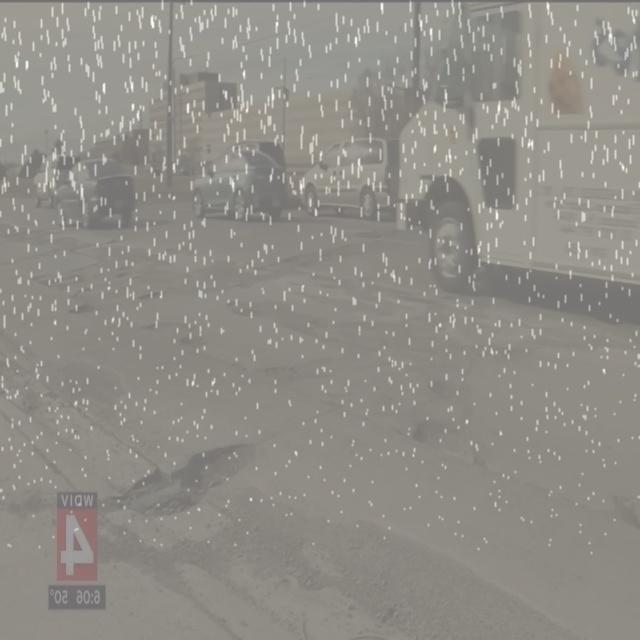Pothole: (274, 502, 607, 640), (96, 432, 254, 532), (222, 275, 381, 349), (400, 399, 500, 467), (30, 262, 115, 324), (284, 232, 379, 271), (140, 309, 217, 355)
